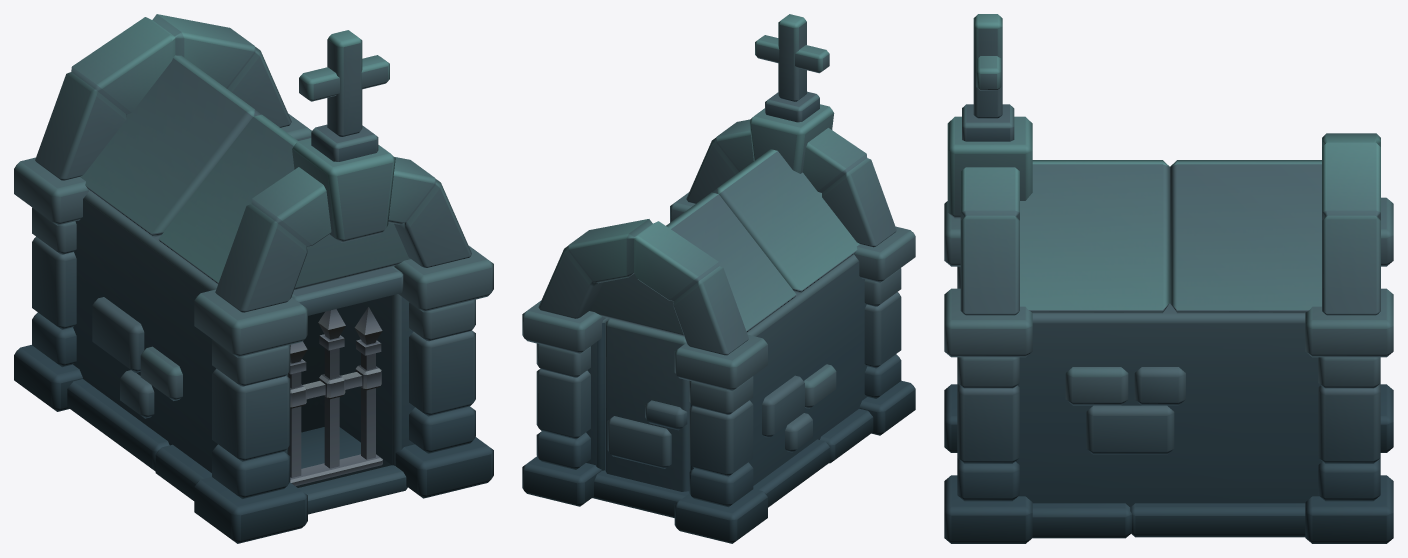
File: tomb.fbx
3 views of the same model, side by side, from view 1: azimuth 30°, elevation 25°; view 2: azimuth 150°, elevation 25°; view 3: azimuth 270°, elevation 25° (orthographic). The views are drawn at different scales.
Parts seen in each view (by area): view 1: tomb, tomb_gate; view 2: tomb; view 3: tomb.
Part boxes in pixels (x1,y1,x2,y2): tomb: (14, 14, 493, 543); tomb_gate: (288, 307, 382, 486); tomb: (522, 14, 915, 543); tomb: (944, 14, 1393, 543).
Size of the model in its own units: 254 by 430 by 376.
